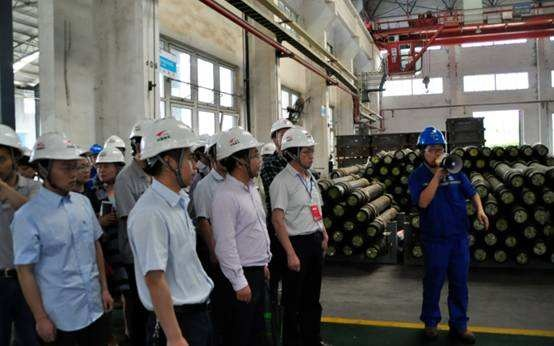blue: (416, 126, 449, 166)
none: (75, 151, 91, 183)
white: (138, 115, 195, 187), (30, 134, 79, 190), (217, 128, 259, 177), (282, 127, 317, 171), (1, 122, 21, 179), (94, 145, 123, 184), (267, 117, 292, 147)
